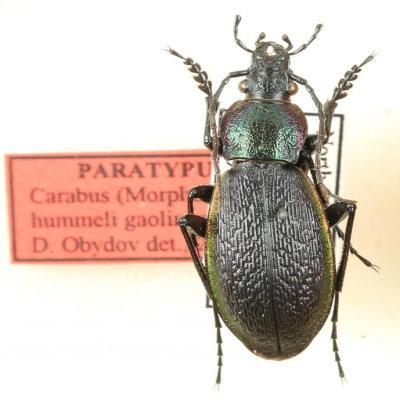natural_science_collection: (164, 14, 381, 387)
